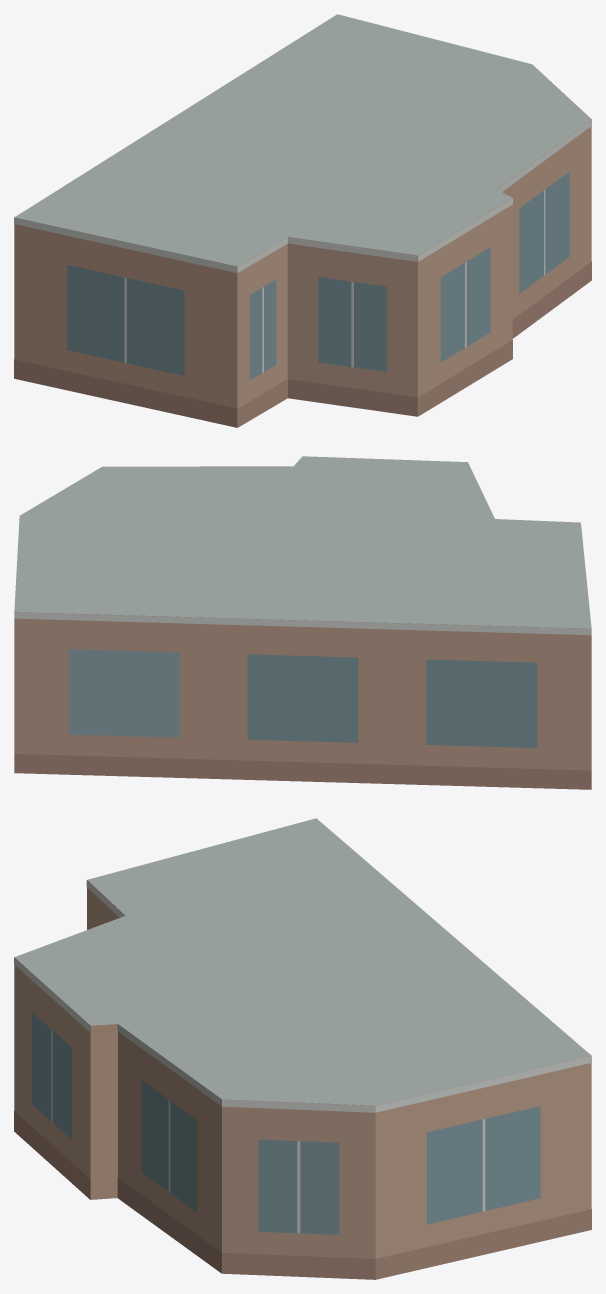
The model's file is survey-upis-32924984.glb.
3 views of the same model, one above another, from view 1: azimuth 30°, elevation 25°; view 2: azimuth 150°, elevation 25°; view 3: azimuth 270°, elevation 25° (orthographic). The views are drawn at different scales.
Parts seen in each view (by area): view 1: survey-upis-32924984.tmp; view 2: survey-upis-32924984.tmp; view 3: survey-upis-32924984.tmp.
Part boxes in pixels (x1,y1,x2,y2): survey-upis-32924984.tmp: [14, 14, 591, 427]; survey-upis-32924984.tmp: [14, 456, 591, 789]; survey-upis-32924984.tmp: [14, 818, 591, 1279].
Size of the model in its own units: 10.81 by 3.05 by 9.18.
